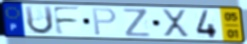4: (196, 9, 219, 40)
F: (51, 6, 82, 36)
P: (91, 8, 118, 37)
U: (23, 5, 56, 36)
X: (161, 8, 191, 39)
Z: (121, 8, 153, 38)
